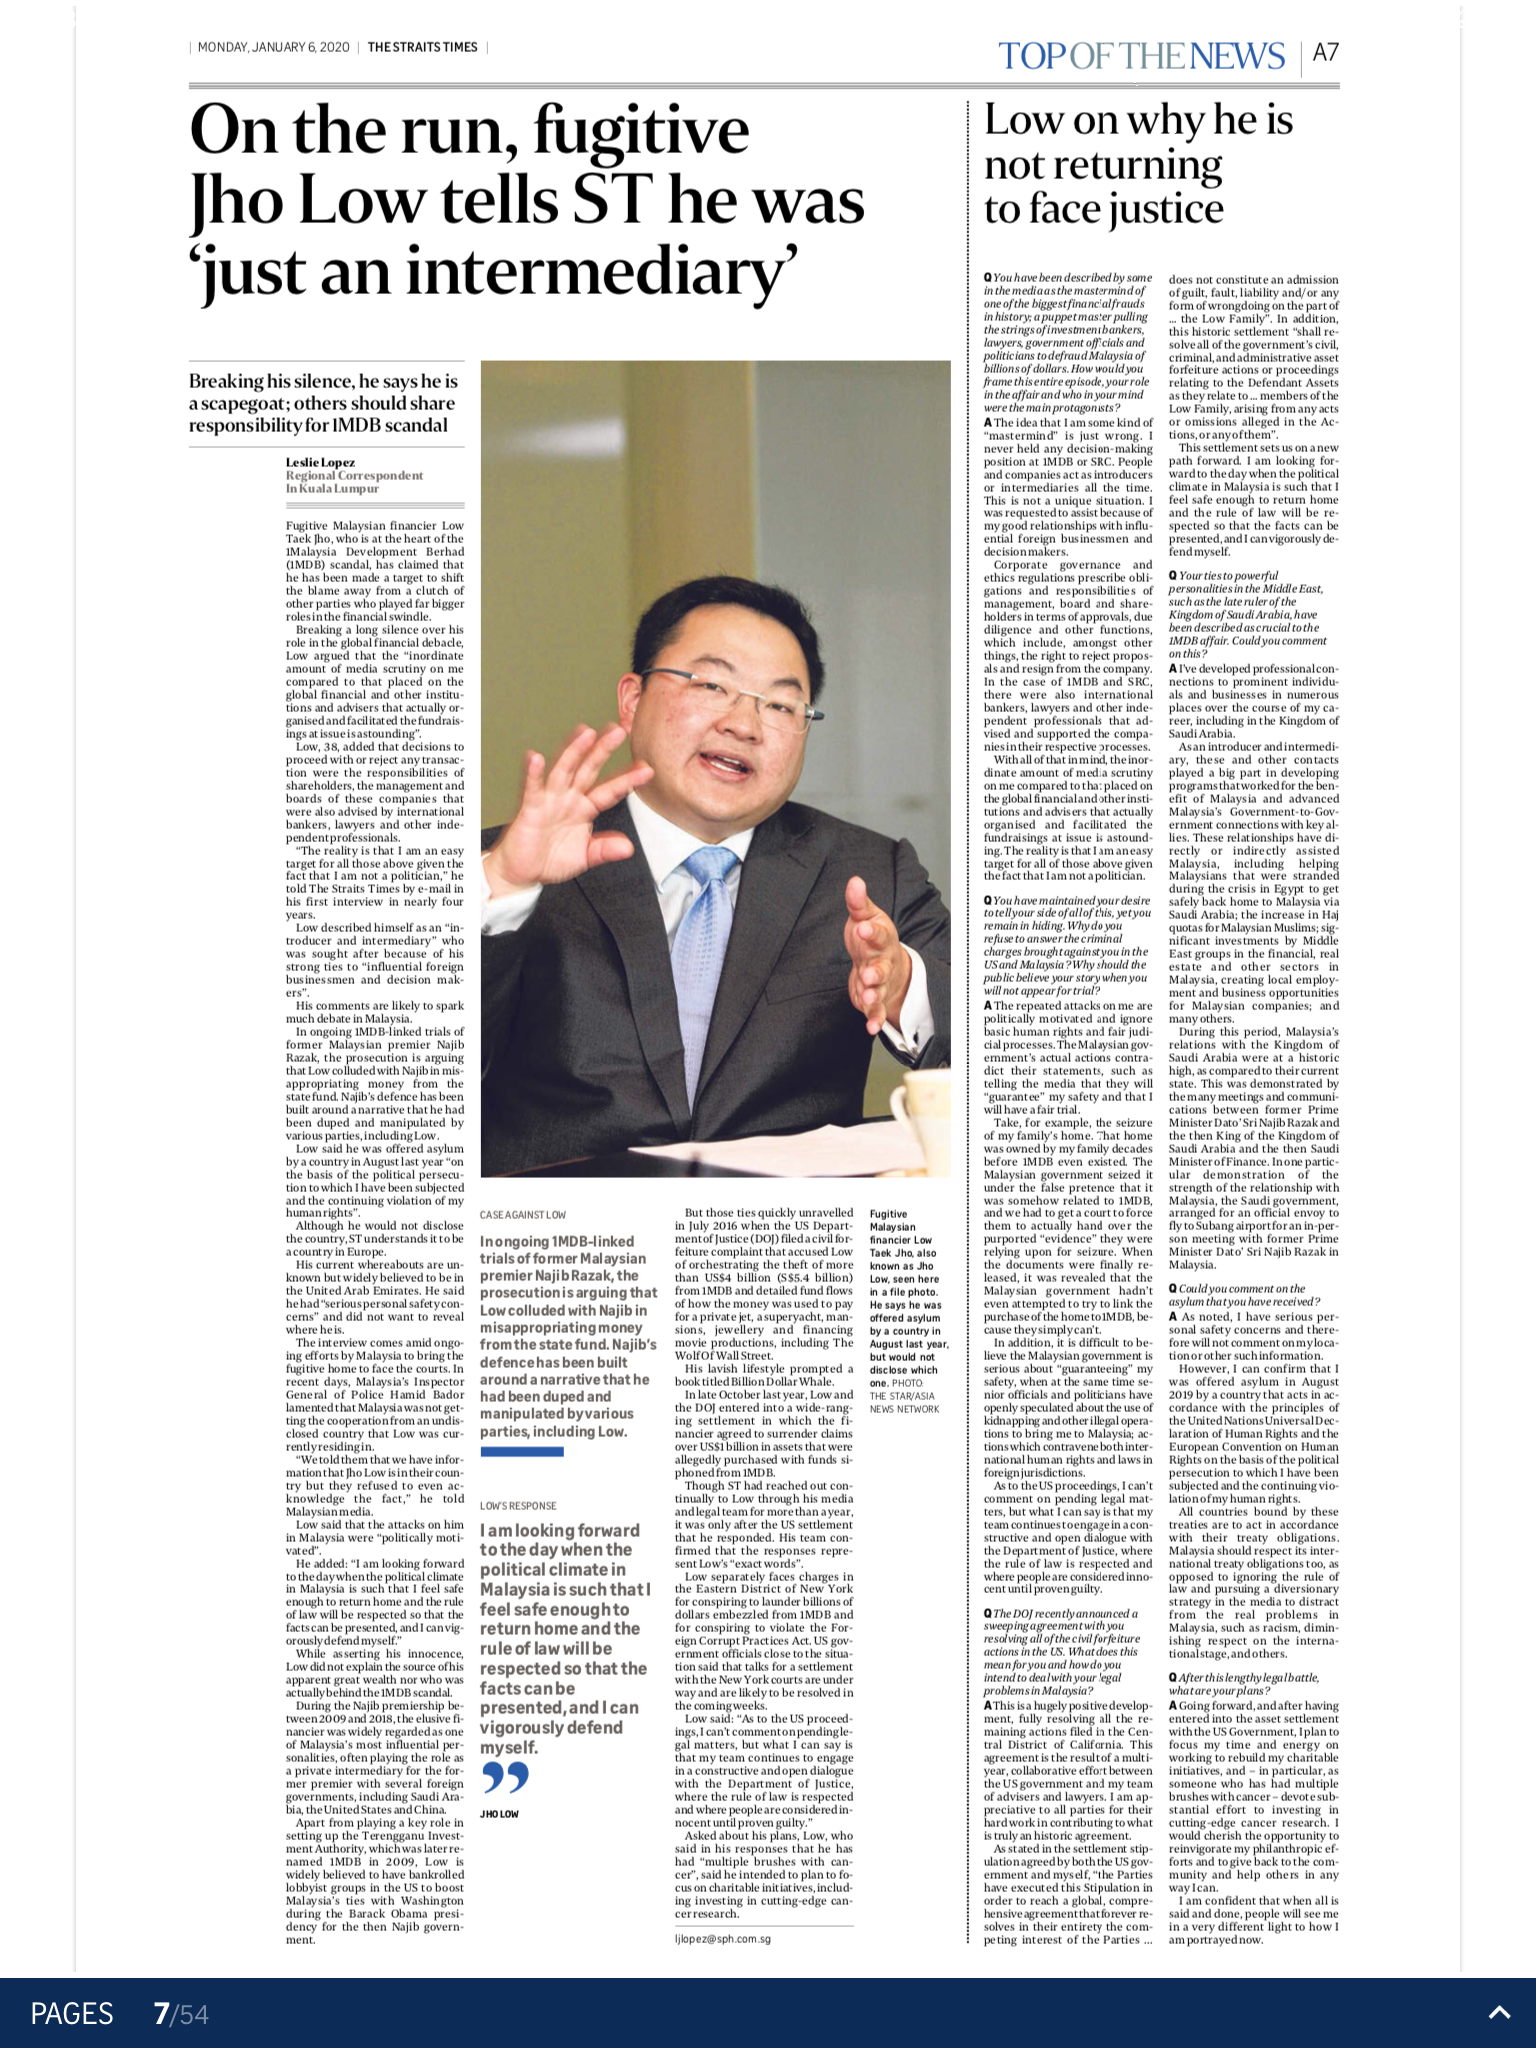Byline: (286, 456, 424, 495)
Headline: (189, 100, 866, 310), (975, 87, 1317, 244)
Illustration: (870, 1209, 949, 1416)
Image: (482, 360, 952, 1177)
Text: (286, 519, 465, 1946), (1167, 273, 1339, 1272), (671, 1203, 857, 1924), (981, 893, 1154, 1600), (1165, 1280, 1342, 1951), (979, 269, 1155, 885), (979, 1609, 1155, 1950), (474, 1496, 655, 1819), (479, 1209, 662, 1459), (174, 361, 461, 447)
